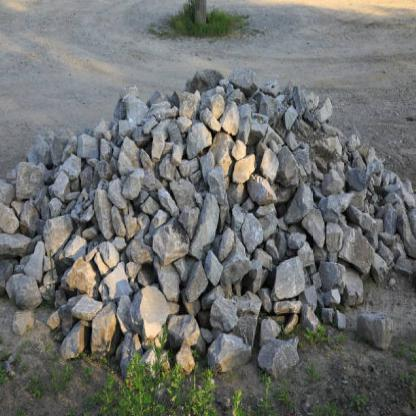Sedimentary_Limestone: (128, 284, 174, 344), (152, 217, 196, 266), (281, 176, 315, 234), (270, 256, 313, 299), (200, 158, 228, 217), (121, 164, 152, 197), (203, 94, 226, 126)
